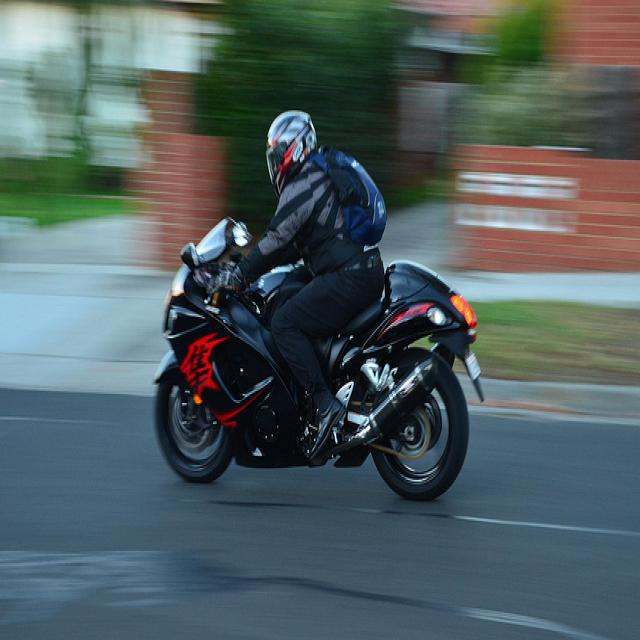motor: (146, 209, 498, 509)
